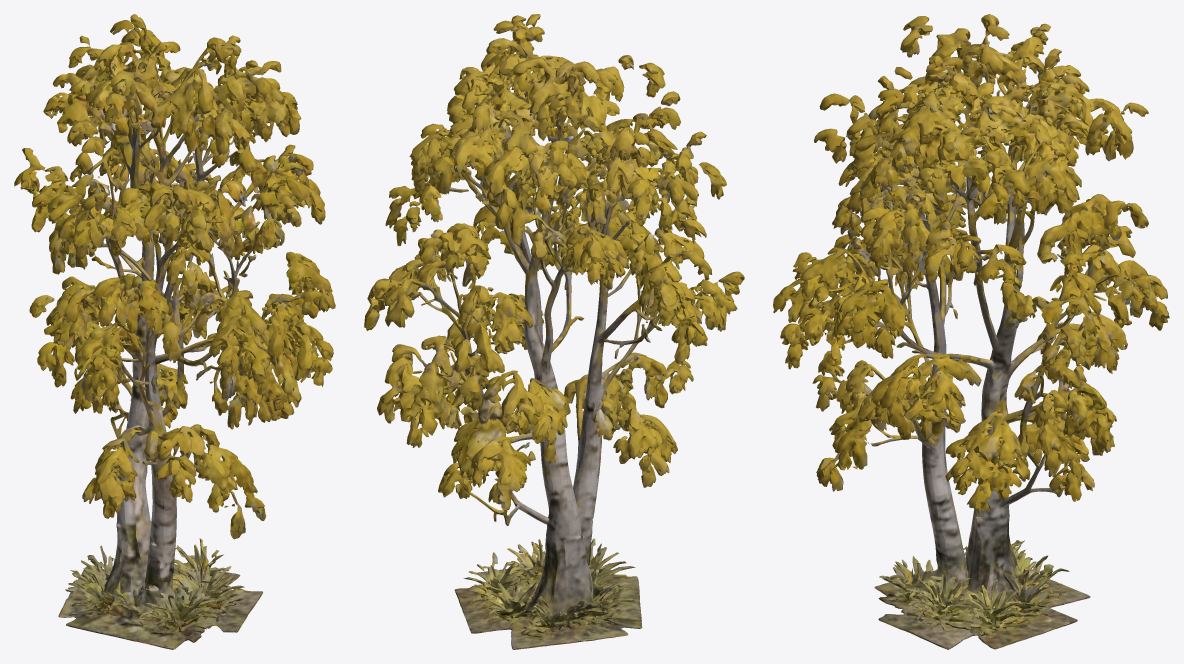
The model's file is Birch_01.fbx.
3 views of the same model, side by side, from view 1: azimuth 30°, elevation 25°; view 2: azimuth 150°, elevation 25°; view 3: azimuth 270°, elevation 25° (orthographic). The views are drawn at different scales.
Visible parts, largest first — view 1: geometry_0; view 2: geometry_0; view 3: geometry_0.
Boxes of the visible parts, box(x1,y1,x2,y2) form: geometry_0: box(14, 14, 335, 649); geometry_0: box(364, 14, 744, 649); geometry_0: box(773, 14, 1169, 649).
Size of the model in its own units: 419 by 800 by 492.
